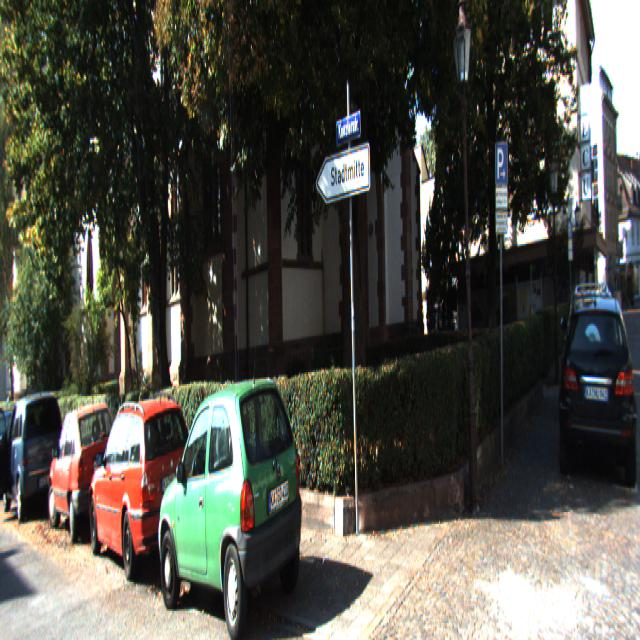Car: (148, 364, 309, 638), (81, 378, 200, 590), (558, 284, 639, 487), (40, 387, 121, 548), (1, 385, 64, 526)
